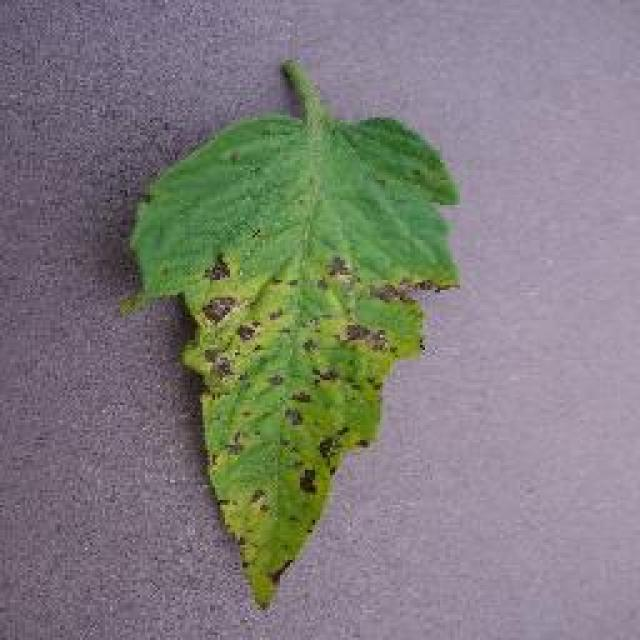Tomato___Septoria_leaf_spot: (122, 62, 455, 605)
